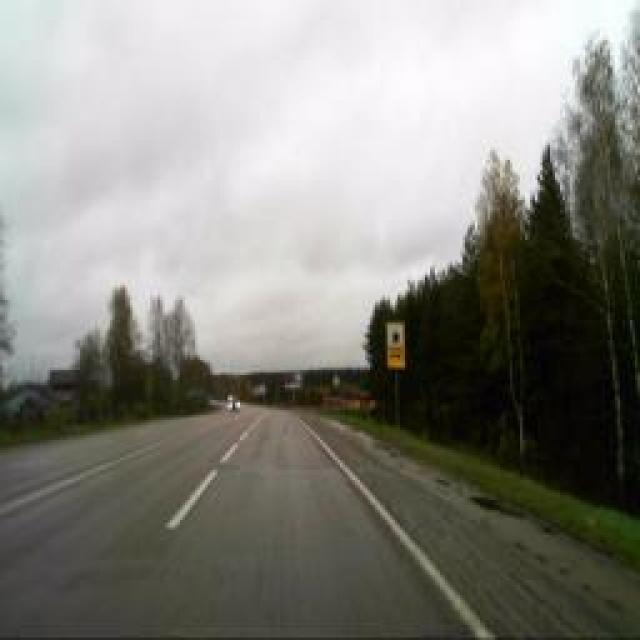sign: (332, 374, 340, 388)
